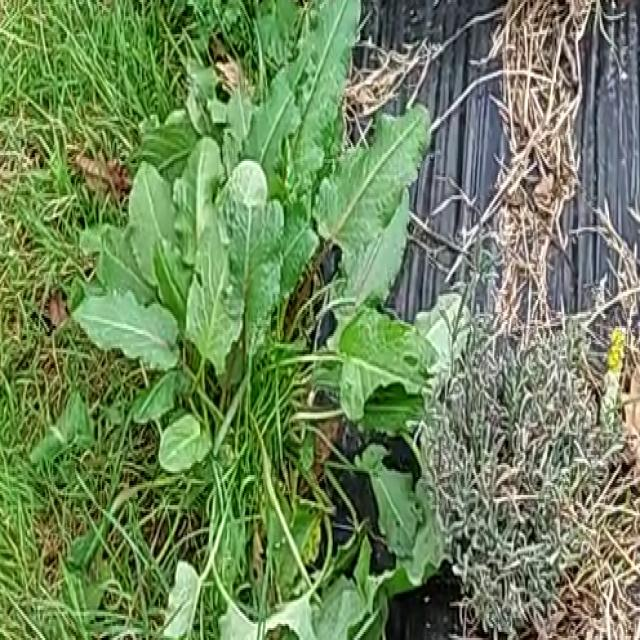organic waste: (55, 6, 472, 592)
